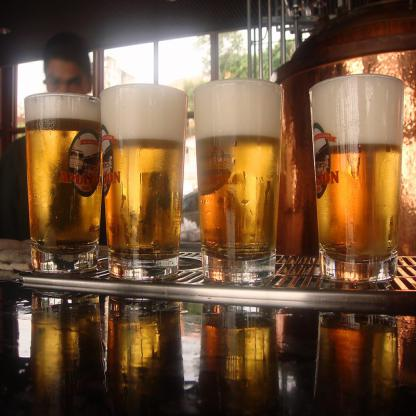drinking: (310, 74, 404, 282), (193, 78, 284, 283), (100, 83, 189, 281), (24, 92, 103, 274)
